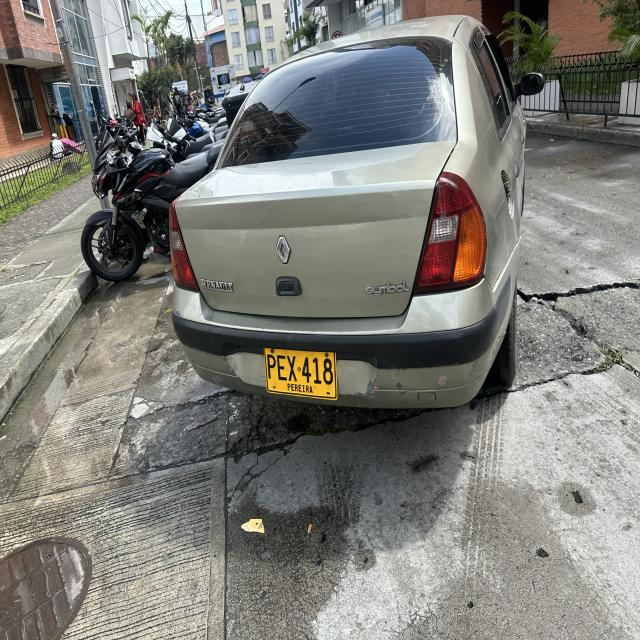number plate: (264, 348, 337, 400)
